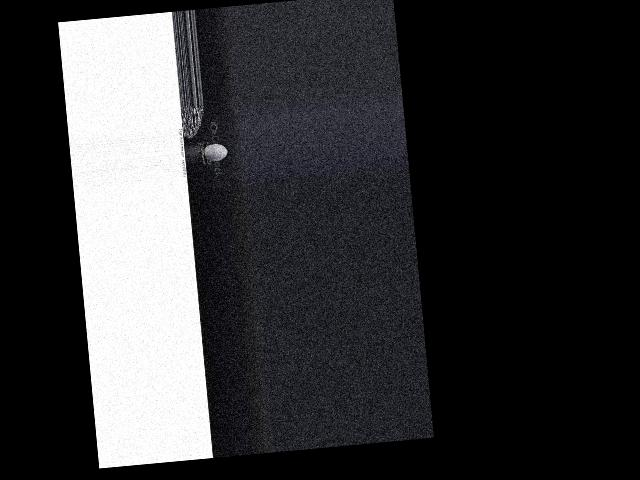egg: (202, 143, 227, 162)
